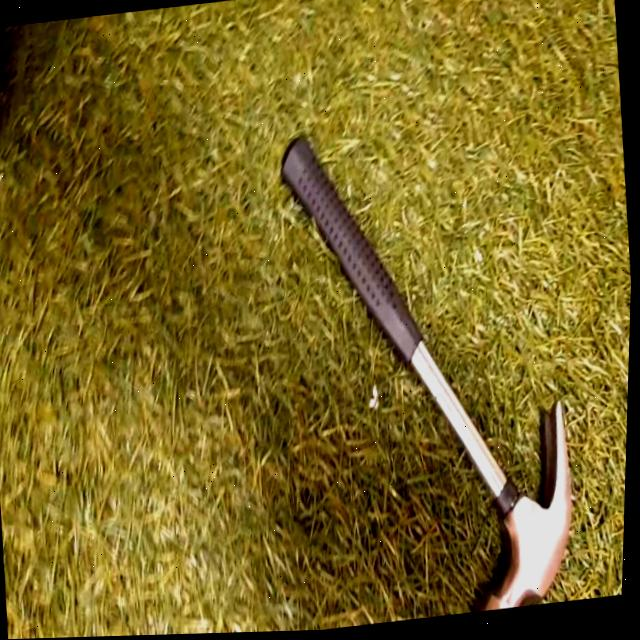hammer: (258, 104, 596, 634)
